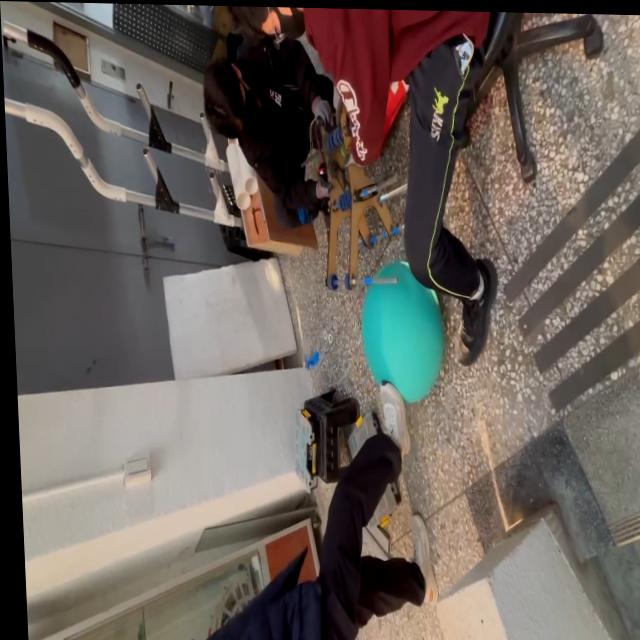ALGAE: (357, 257, 449, 407)
